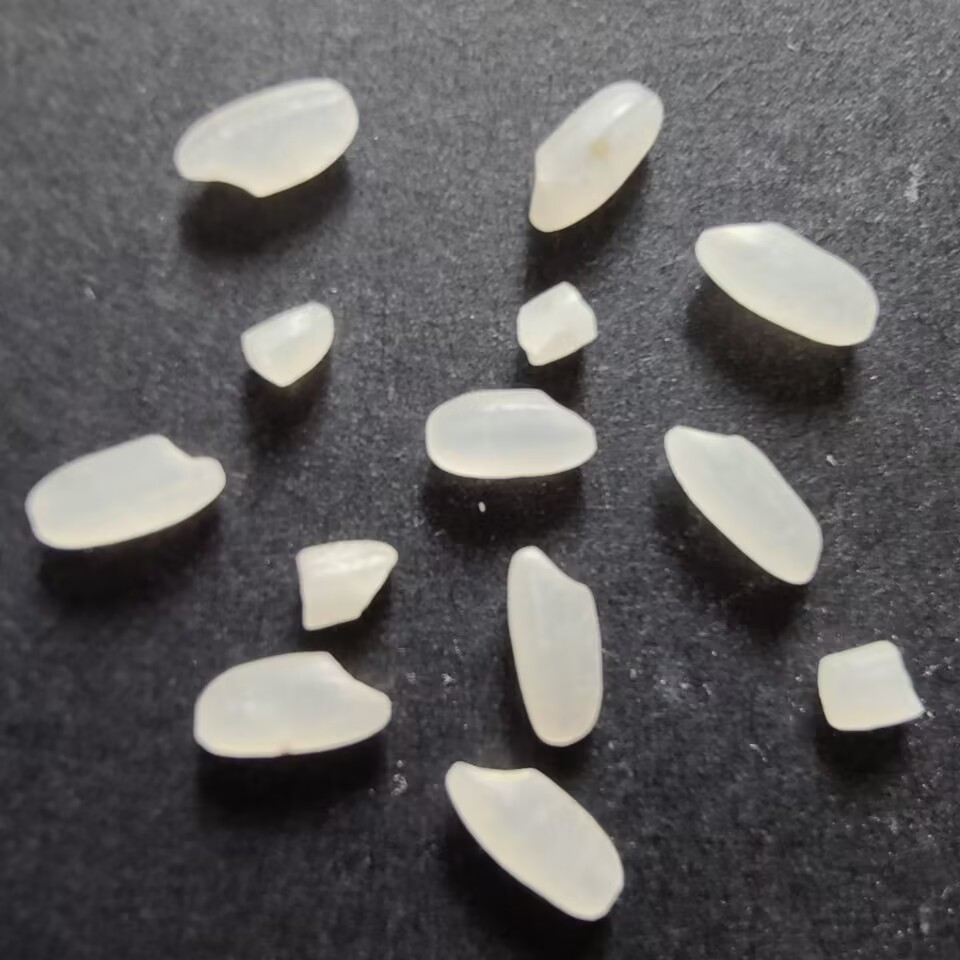broken: (288, 536, 402, 631), (815, 637, 927, 732), (238, 296, 338, 391), (505, 279, 600, 366)
rice: (442, 758, 630, 927), (660, 422, 825, 591), (23, 427, 230, 552), (692, 218, 885, 348), (165, 75, 361, 201), (186, 644, 395, 759), (523, 78, 666, 238), (501, 541, 606, 750), (422, 382, 603, 485)
